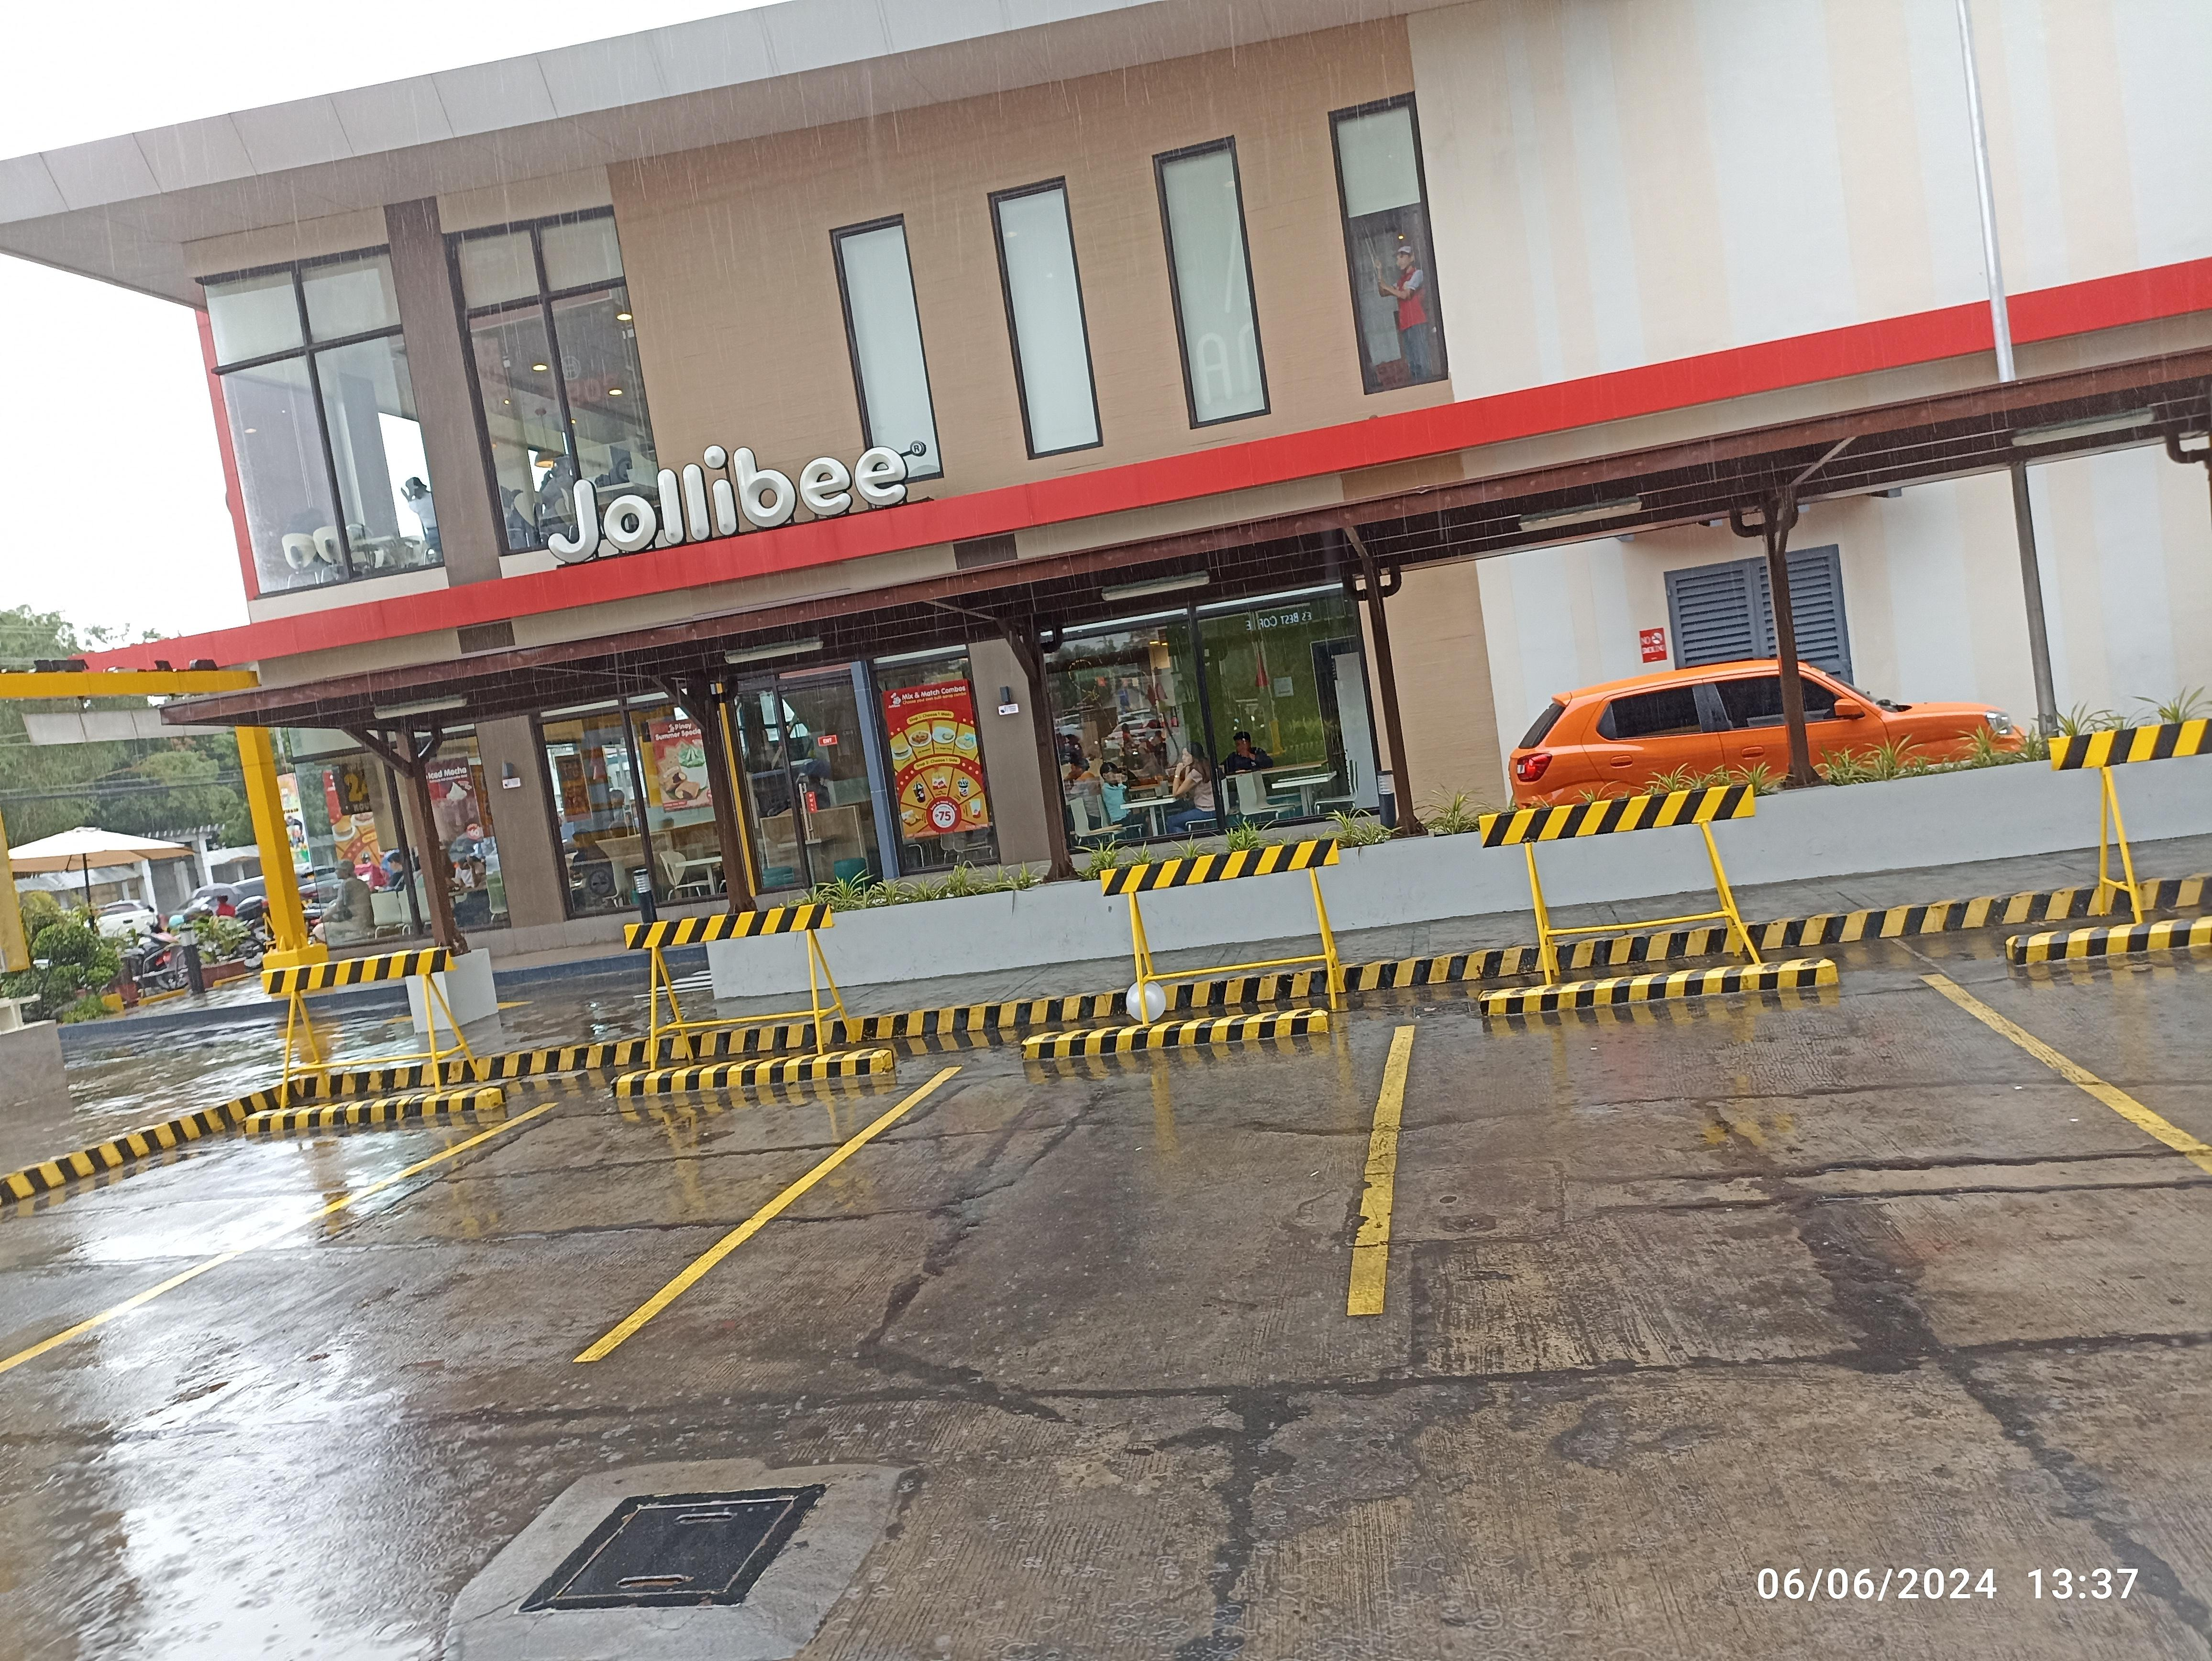vacant: (1345, 925, 2212, 1317), (570, 968, 1427, 1363), (0, 1066, 946, 1366)
